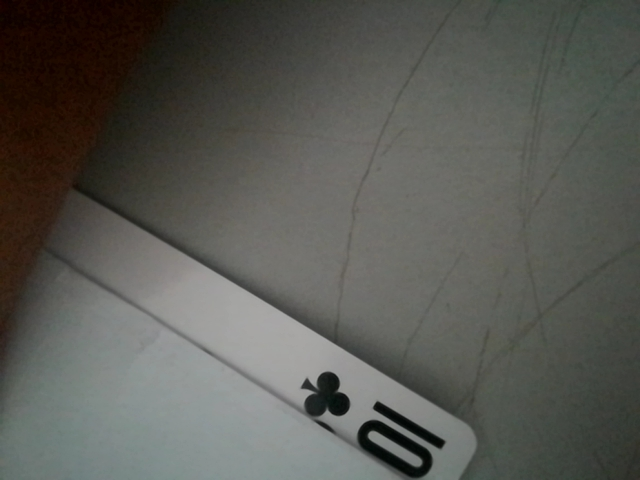mh 10: (287, 363, 462, 476)
